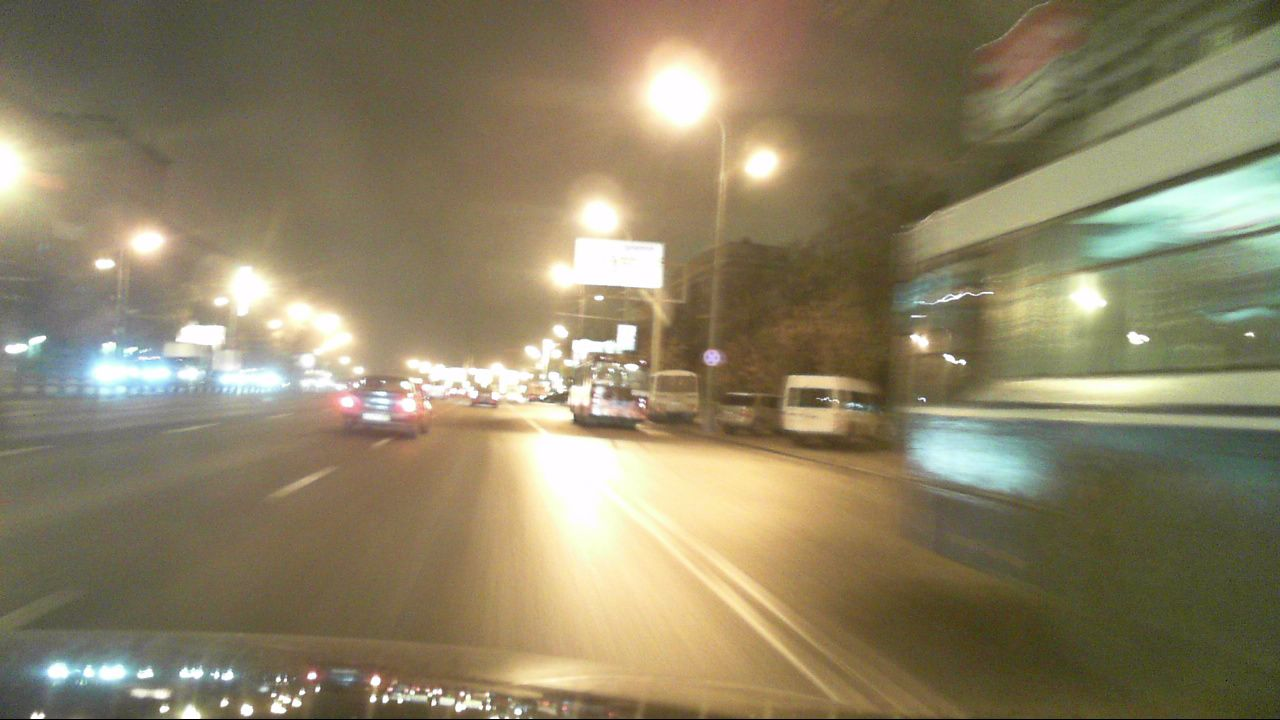No Parking: (702, 348, 720, 367)
